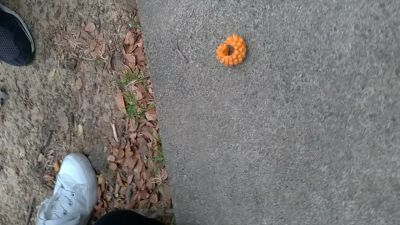eggs: (216, 34, 247, 69)
